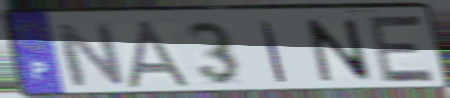3: (186, 19, 244, 86)
A: (123, 18, 198, 90)
E: (367, 13, 438, 85)
I: (258, 18, 289, 84)
N: (51, 22, 129, 89), (303, 18, 377, 85)
